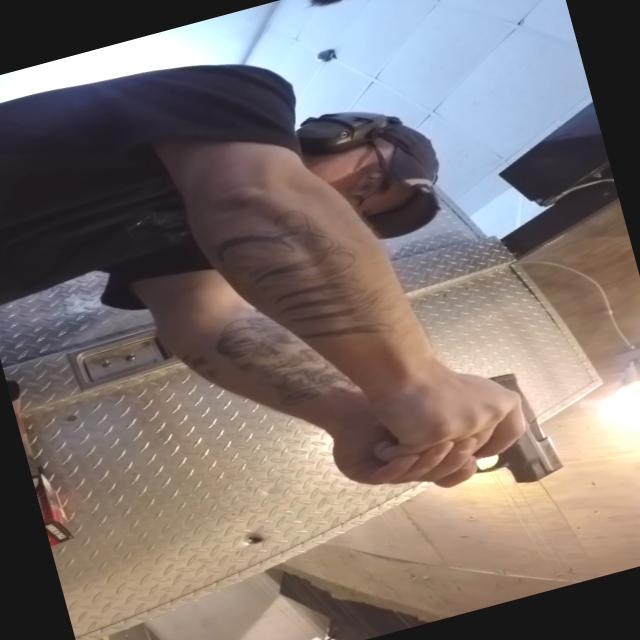handgun: (316, 344, 588, 546)
